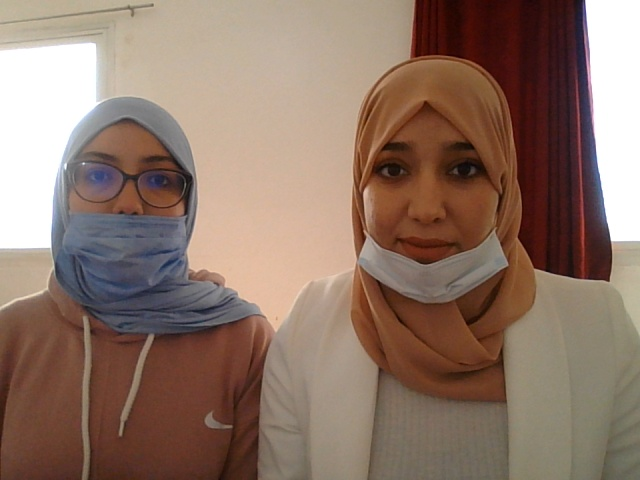mask_weared_incorrect: (362, 84, 513, 304), (56, 127, 204, 302)
